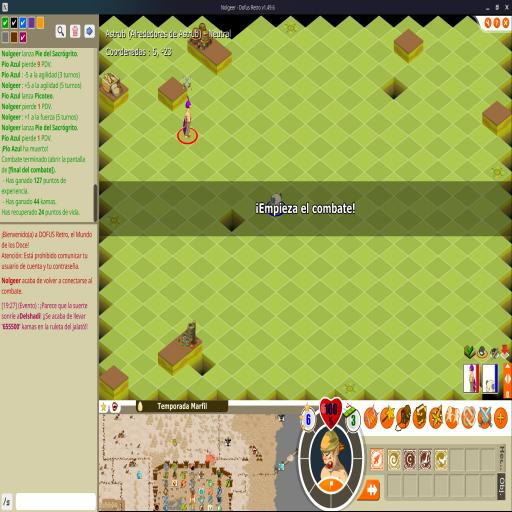Enemigos: (270, 192, 284, 214)
Personaje: (183, 96, 192, 139)
